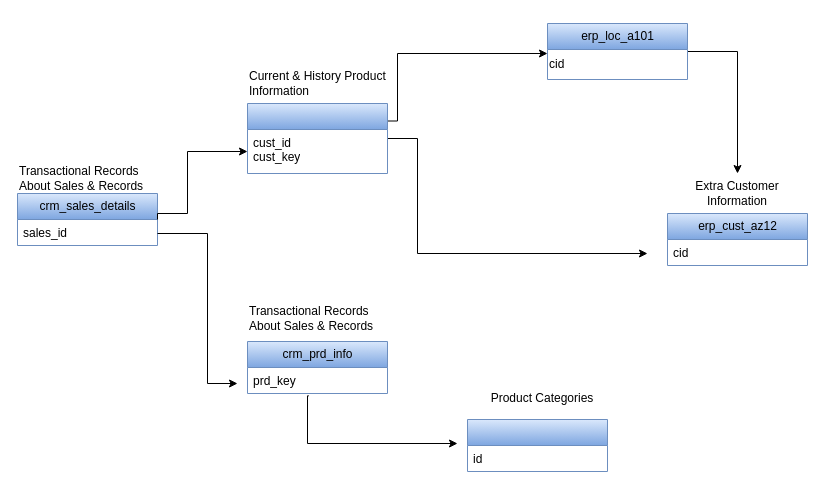
Image size: 825x491. Some labels were removed from this diagram. Each missing label, with the box of its shape:
crm_cust_info: (246, 102, 388, 174)
erp_px_cat_g1v2: (466, 418, 608, 472)
